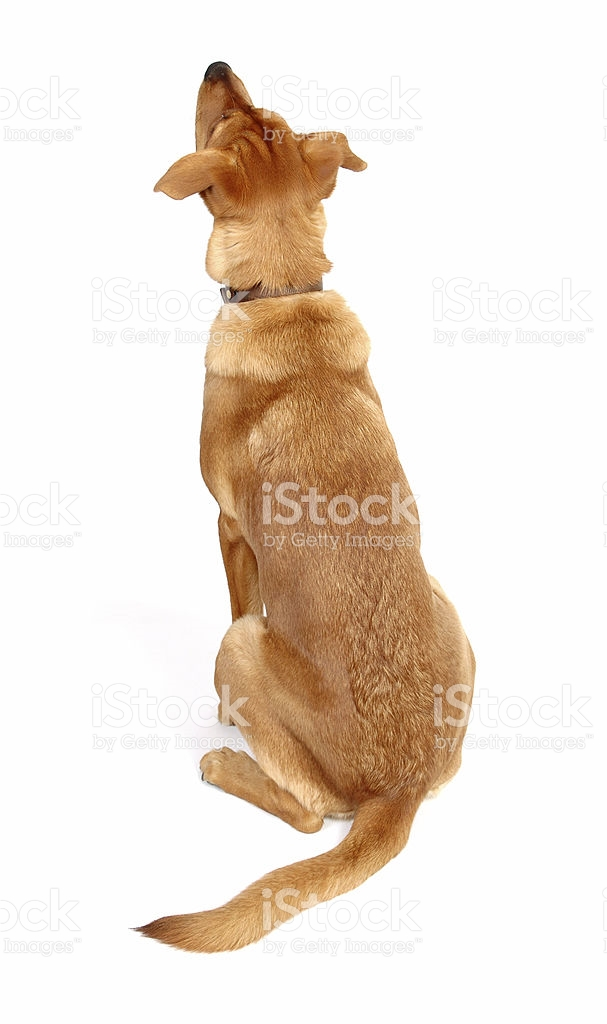dog: (135, 47, 472, 952)
